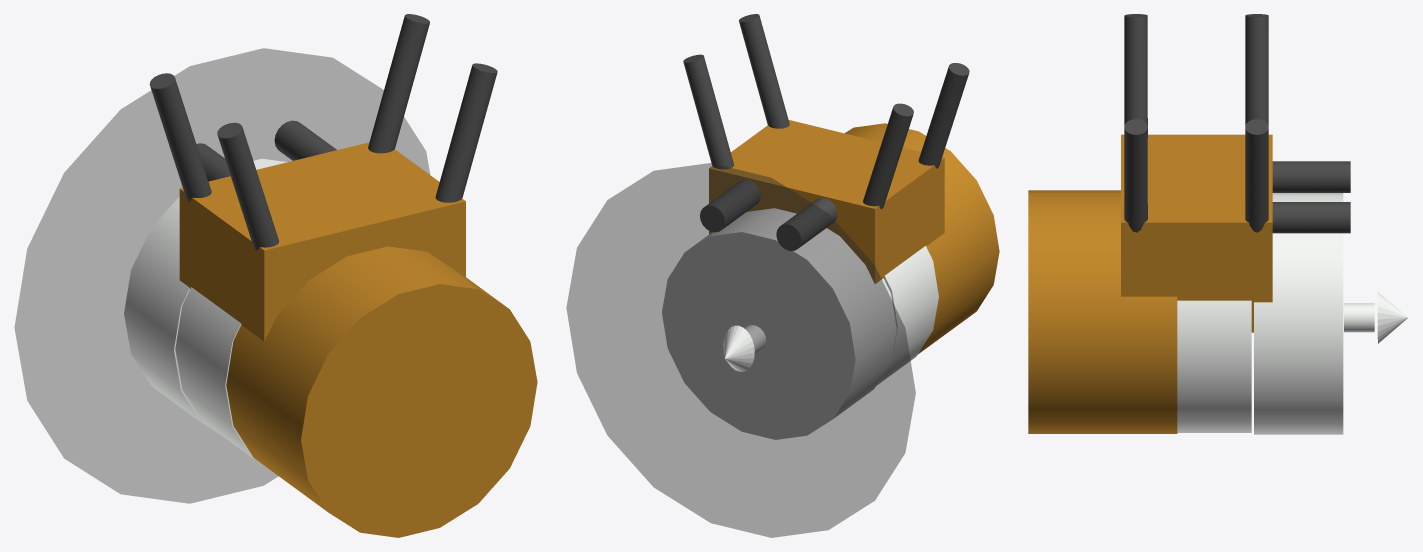
The model's file is debris12.fbx.
3 views of the same model, side by side, from view 1: azimuth 30°, elevation 25°; view 2: azimuth 150°, elevation 25°; view 3: azimuth 270°, elevation 25° (orthographic). The views are drawn at different scales.
Parts seen in each view (by area): view 1: Cylinder06, Cylinder13, Box04, Cylinder02, Cylinder03, Cylinder14, Cylinder15, Cylinder16, Cylinder17, Cylinder05, Cylinder01; view 2: Cylinder13, Cylinder02, Box04, Cylinder06, Cylinder03, Cylinder15, Cylinder14, Cylinder16, Cylinder17, Cylinder01, Cylinder05, Cone04; view 3: Cylinder06, Box04, Cylinder02, Cylinder03, Cylinder16, Cylinder17, Cylinder14, Cylinder15, Cylinder01, Cylinder05, Cylinder12, Cone04.
Boxes of the visible parts, left/top/right/bottom form: Cylinder06: left=226, top=246, right=537, bottom=537; Cylinder13: left=14, top=48, right=429, bottom=503; Box04: left=179, top=142, right=465, bottom=341; Cylinder02: left=124, top=158, right=287, bottom=433; Cylinder03: left=175, top=287, right=262, bottom=464; Cylinder14: left=435, top=63, right=497, bottom=202; Cylinder15: left=368, top=14, right=429, bottom=153; Cylinder16: left=217, top=122, right=279, bottom=250; Cylinder17: left=149, top=73, right=211, bottom=201; Cylinder05: left=274, top=120, right=336, bottom=160; Cylinder01: left=196, top=143, right=230, bottom=181; Cylinder13: left=566, top=163, right=915, bottom=537; Cylinder02: left=662, top=208, right=896, bottom=439; Box04: left=709, top=120, right=944, bottom=283; Cylinder06: left=845, top=123, right=999, bottom=354; Cylinder03: left=876, top=246, right=938, bottom=385; Cylinder15: left=683, top=54, right=734, bottom=169; Cylinder14: left=739, top=14, right=789, bottom=128; Cylinder16: left=918, top=63, right=969, bottom=168; Cylinder17: left=863, top=103, right=913, bottom=209; Cylinder01: left=776, top=198, right=837, bottom=250; Cylinder05: left=700, top=179, right=760, bottom=232; Cone04: left=723, top=325, right=754, bottom=371; Cylinder06: left=1028, top=190, right=1177, bottom=433; Box04: left=1121, top=134, right=1272, bottom=332; Cylinder02: left=1254, top=193, right=1343, bottom=434; Cylinder03: left=1177, top=300, right=1251, bottom=432; Cylinder16: left=1124, top=14, right=1147, bottom=137; Cylinder17: left=1245, top=14, right=1268, bottom=125; Cylinder14: left=1124, top=119, right=1147, bottom=232; Cylinder15: left=1245, top=119, right=1268, bottom=232; Cylinder01: left=1272, top=161, right=1350, bottom=192; Cylinder05: left=1272, top=202, right=1350, bottom=233; Cylinder12: left=1344, top=303, right=1374, bottom=332; Cone04: left=1377, top=292, right=1408, bottom=343.
Bounding box in the file's own units: 434 × 486 × 376.
